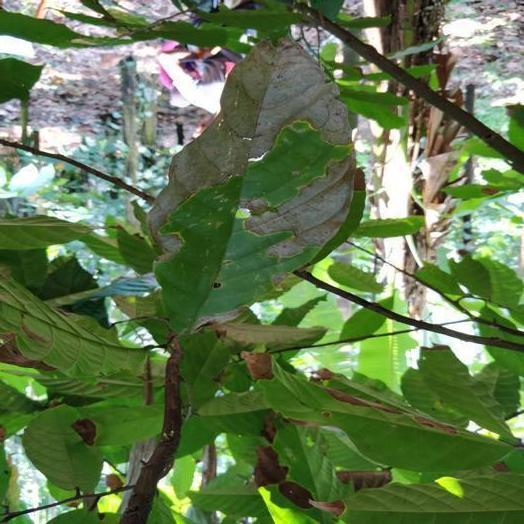Potassium: (150, 40, 353, 331)
